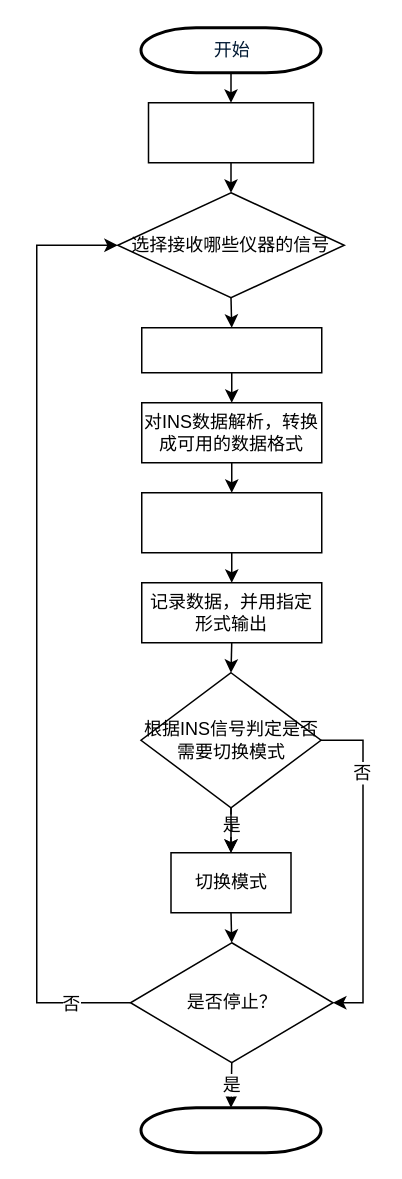
Some shapes in this 402 by 1179 pixel diagram are drawn without their labels. The shapes that lost their labels are listed below. From the top down, each one's centre as x and y in pixels, then its label:
At point 230,132: "确定时间，设置收发信号时间间隔".
At point 231,349: "只接收INS信号".
At point 231,522: "对INS数据滤波，解决惯导抖动问题".
At point 230,1130: "结束".
